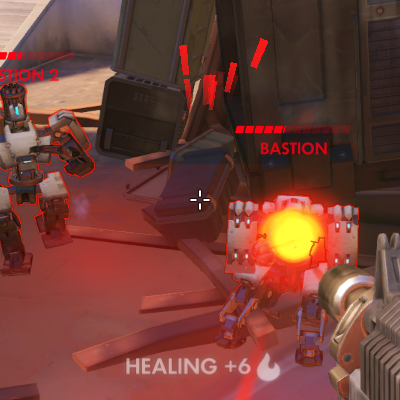hpbar: (234, 124, 352, 135), (1, 50, 76, 61)
